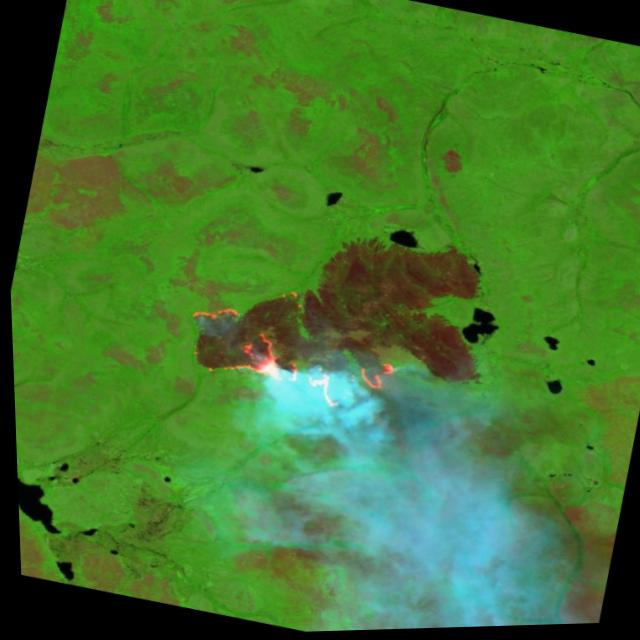fire: (172, 294, 403, 429)
